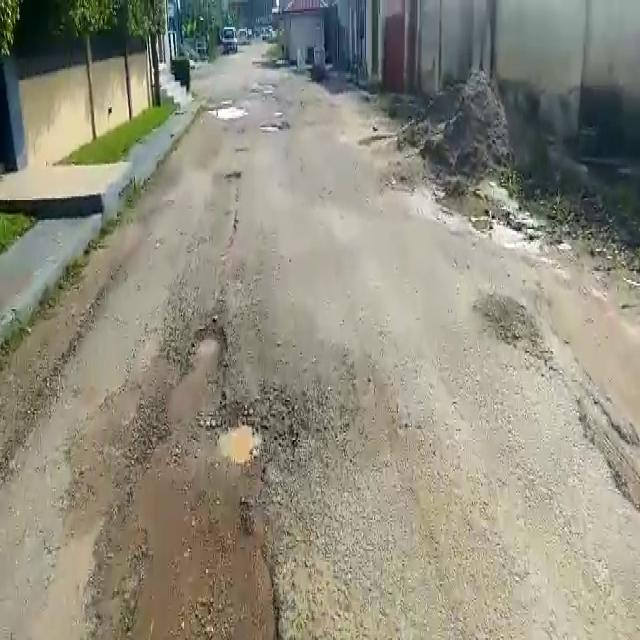Pothole: (218, 416, 262, 462), (193, 322, 226, 370), (204, 104, 248, 124)
